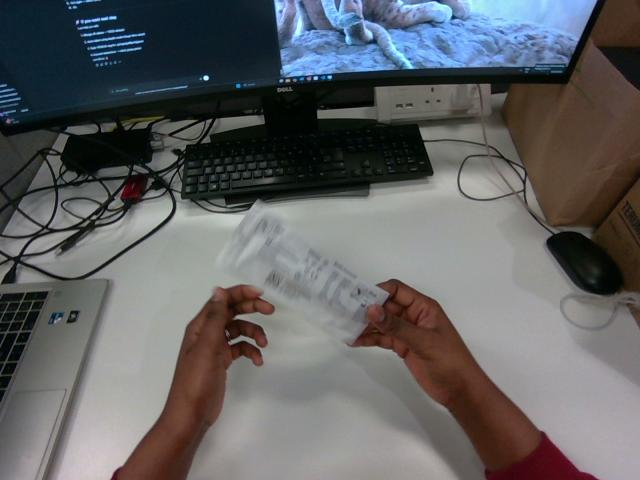syringe: (217, 201, 387, 343)
